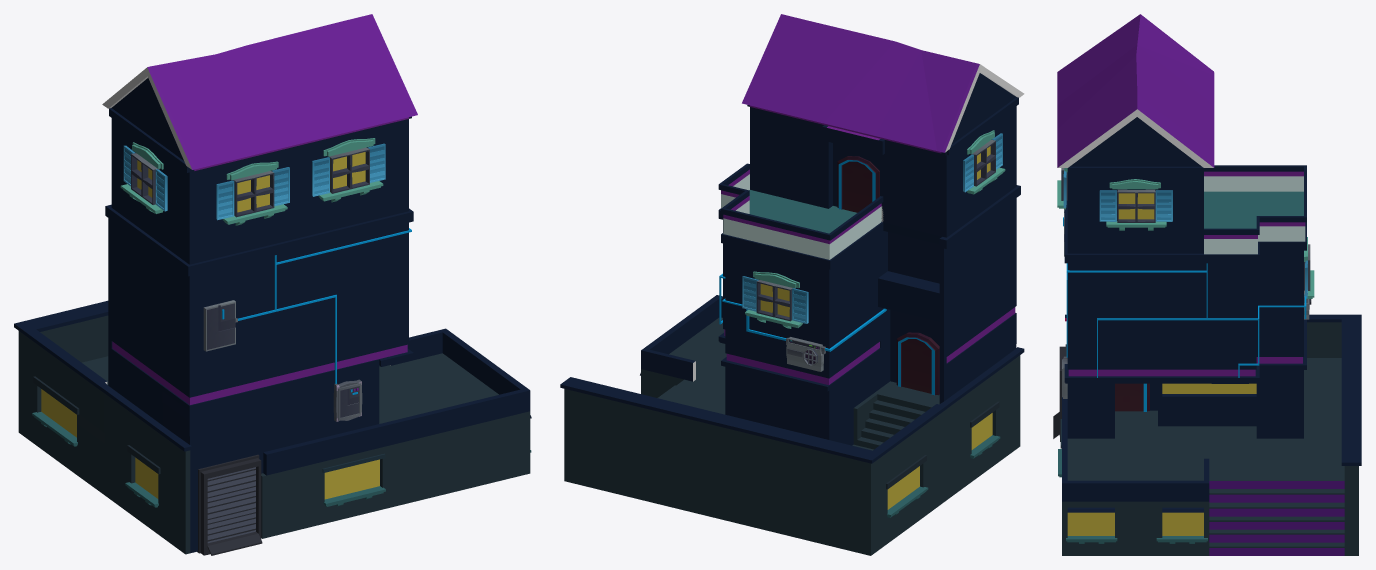
The model's file is Building_Apartment04.fbx.
3 renders of one model, left to right at view 1: azimuth 30°, elevation 25°; view 2: azimuth 150°, elevation 25°; view 3: azimuth 270°, elevation 25°, orthographic. The views are drawn at different scales.
Parts seen in each view (by area): view 1: Cube.138; view 2: Cube.138; view 3: Cube.138.
Part boxes in pixels (<box>): Cube.138: <box>14,14,531,555</box>; Cube.138: <box>560,14,1024,555</box>; Cube.138: <box>1053,14,1361,555</box>.
Size of the model in its own units: 889 by 1100 by 770.
